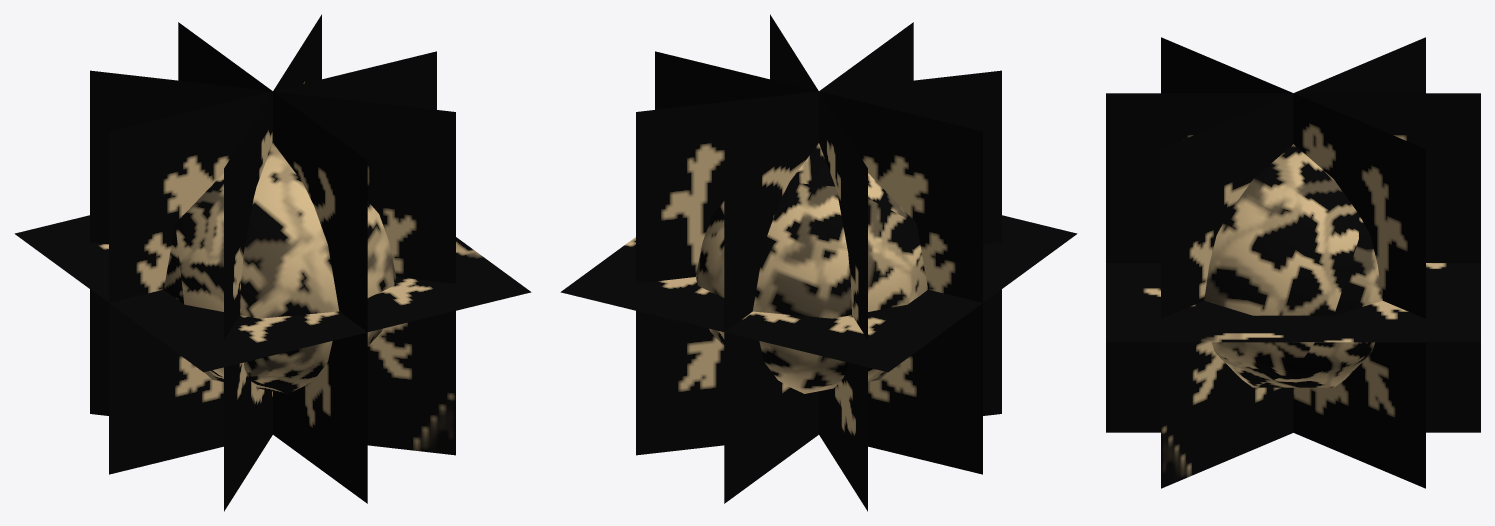
Rendered from tumbleweed.fbx.
The picture shows the model from 3 angles, left to right: view 1: azimuth 30°, elevation 25°; view 2: azimuth 150°, elevation 25°; view 3: azimuth 270°, elevation 25°; orthographic projection.
Visible parts, largest first — view 1: Icosphere.001; view 2: Icosphere.001; view 3: Icosphere.001.
Part boxes in pixels (x1,y1,x2,y2): Icosphere.001: [14, 14, 531, 511]; Icosphere.001: [560, 14, 1077, 511]; Icosphere.001: [1106, 37, 1480, 488].
Bounding box in the file's own units: 200 × 200 × 200.
